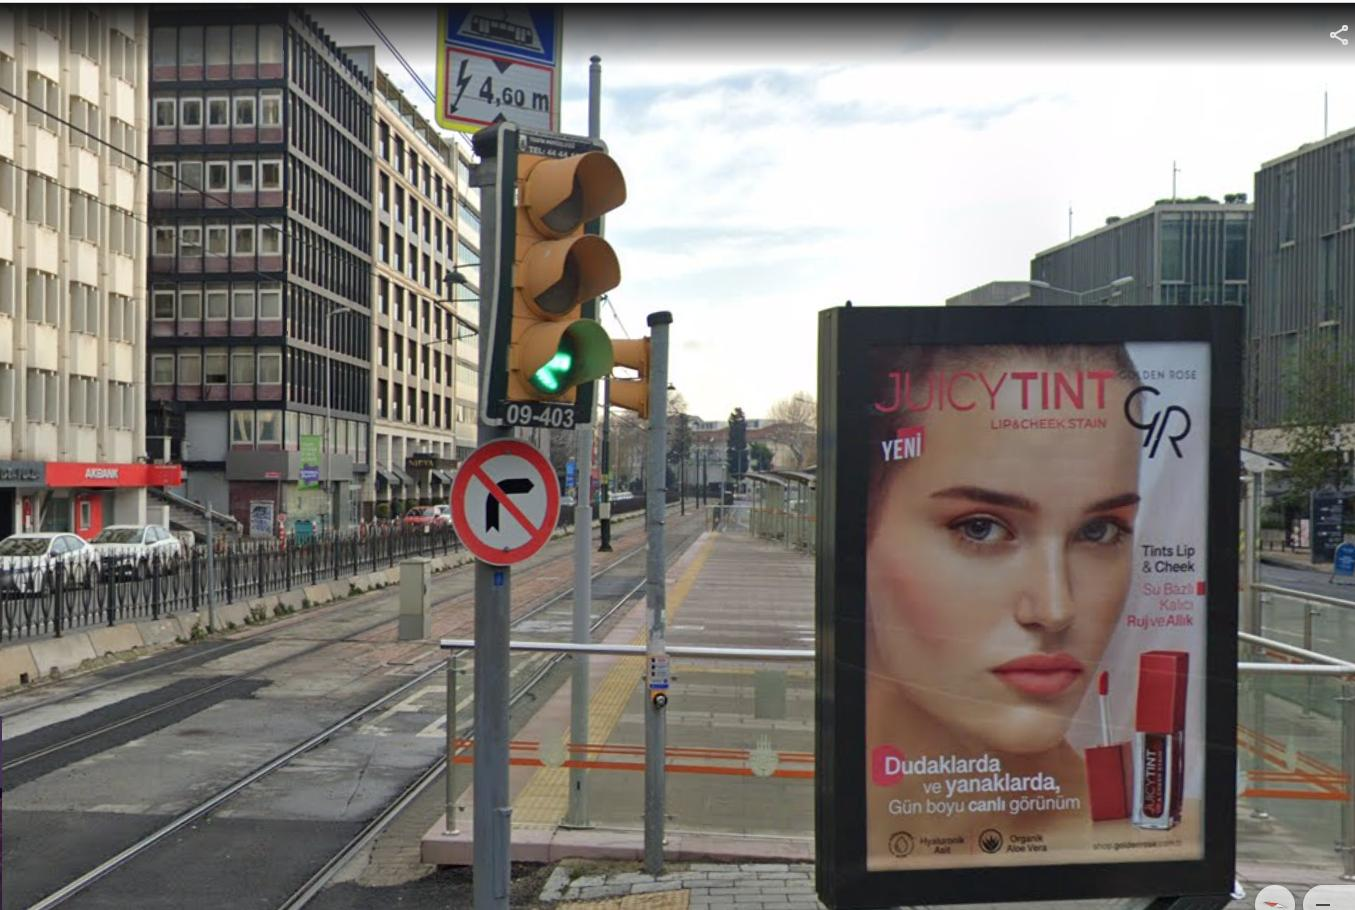greenlight: (508, 143, 619, 402)
rightturnsareforbidden: (451, 441, 561, 561)
